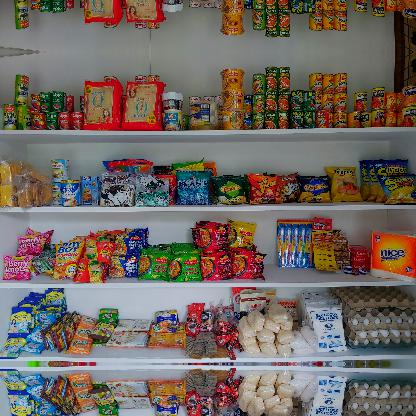Lady-s-Choice: (190, 101, 218, 130)
